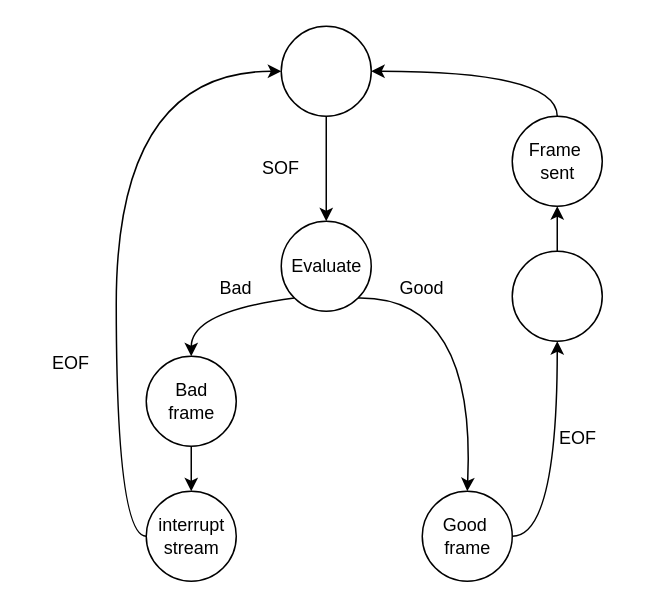
Some shapes in this 648 by 608 pixel diagram are drawn without their labels. Here are the shapes that lost their labels. From the top down, the box of each, then its label:
(280, 25, 371, 116): Idle
(511, 250, 602, 341): Add header
